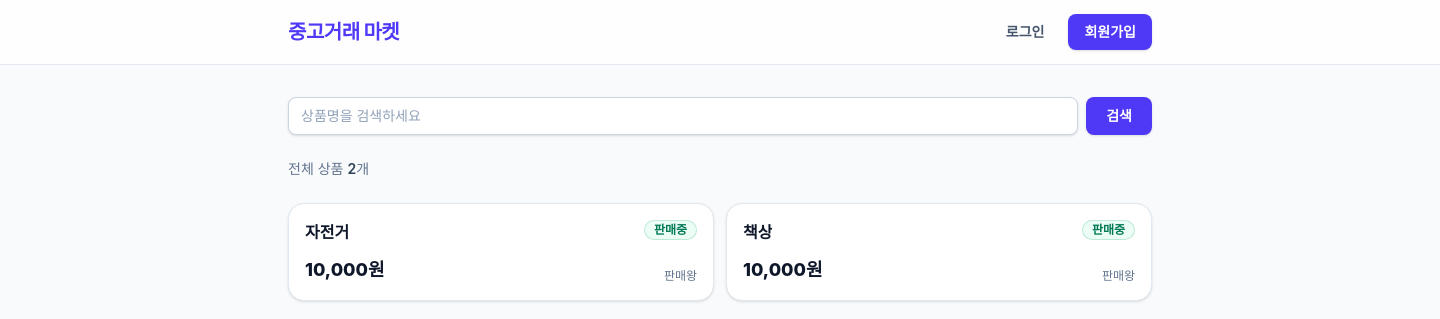
Scenario: 검색하면 q 파라미터로 다시 조회한다
Expected: the number of links with test id "product-card" is 2, 288,203 -> 714,301; 726,203 -> 1152,301
Type "책상" into the search field labelled "검색" at (683, 116), box 288,97 -> 1078,135
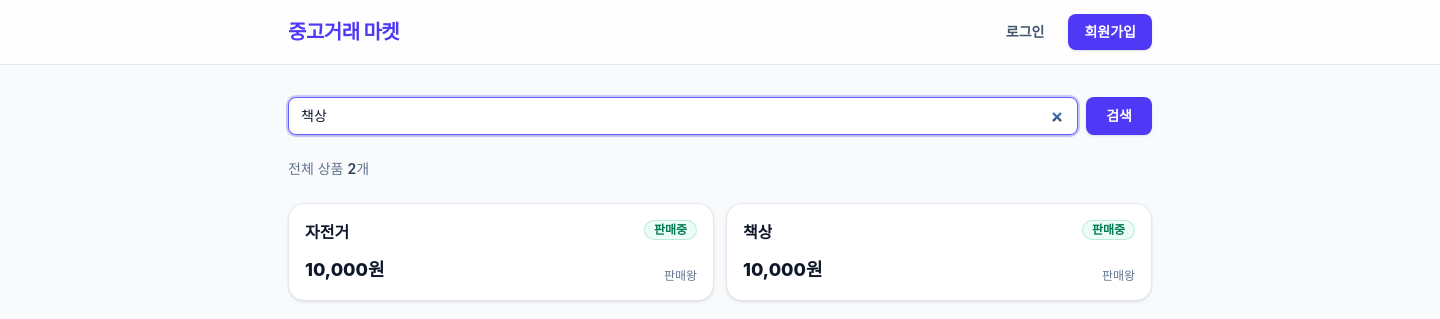
Click the button "검색" at (1119, 116), box 1086,97 -> 1152,135
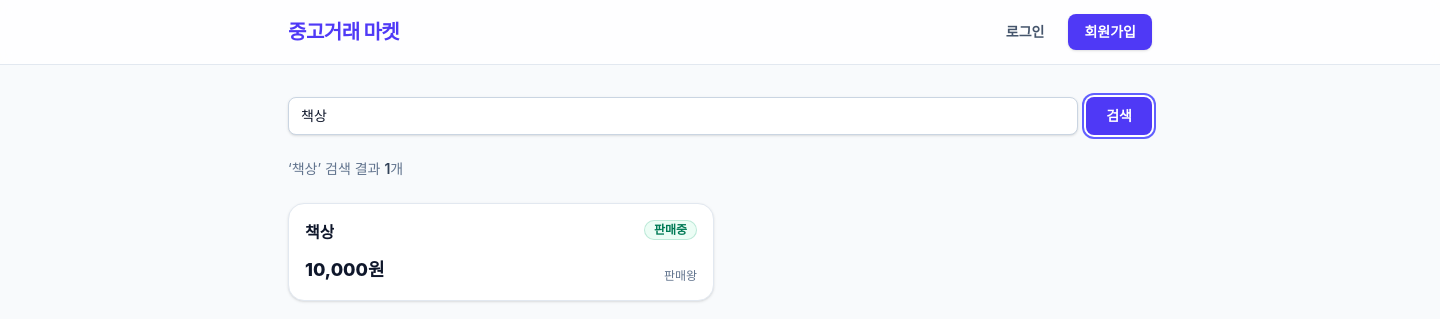
Expected: the number of links with test id "product-card" is 1, 288,203 -> 714,301
